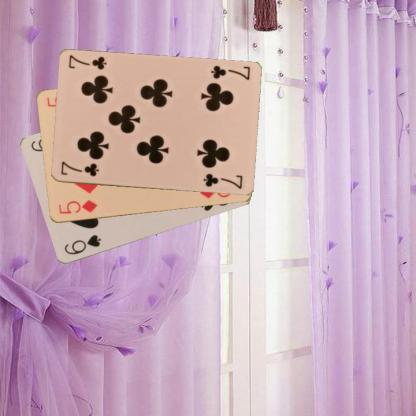5d: (56, 198, 98, 216)
6s: (62, 232, 102, 257)
7c: (207, 63, 251, 82), (58, 159, 100, 178)
